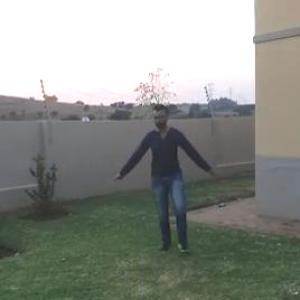land: (114, 101, 220, 264)
